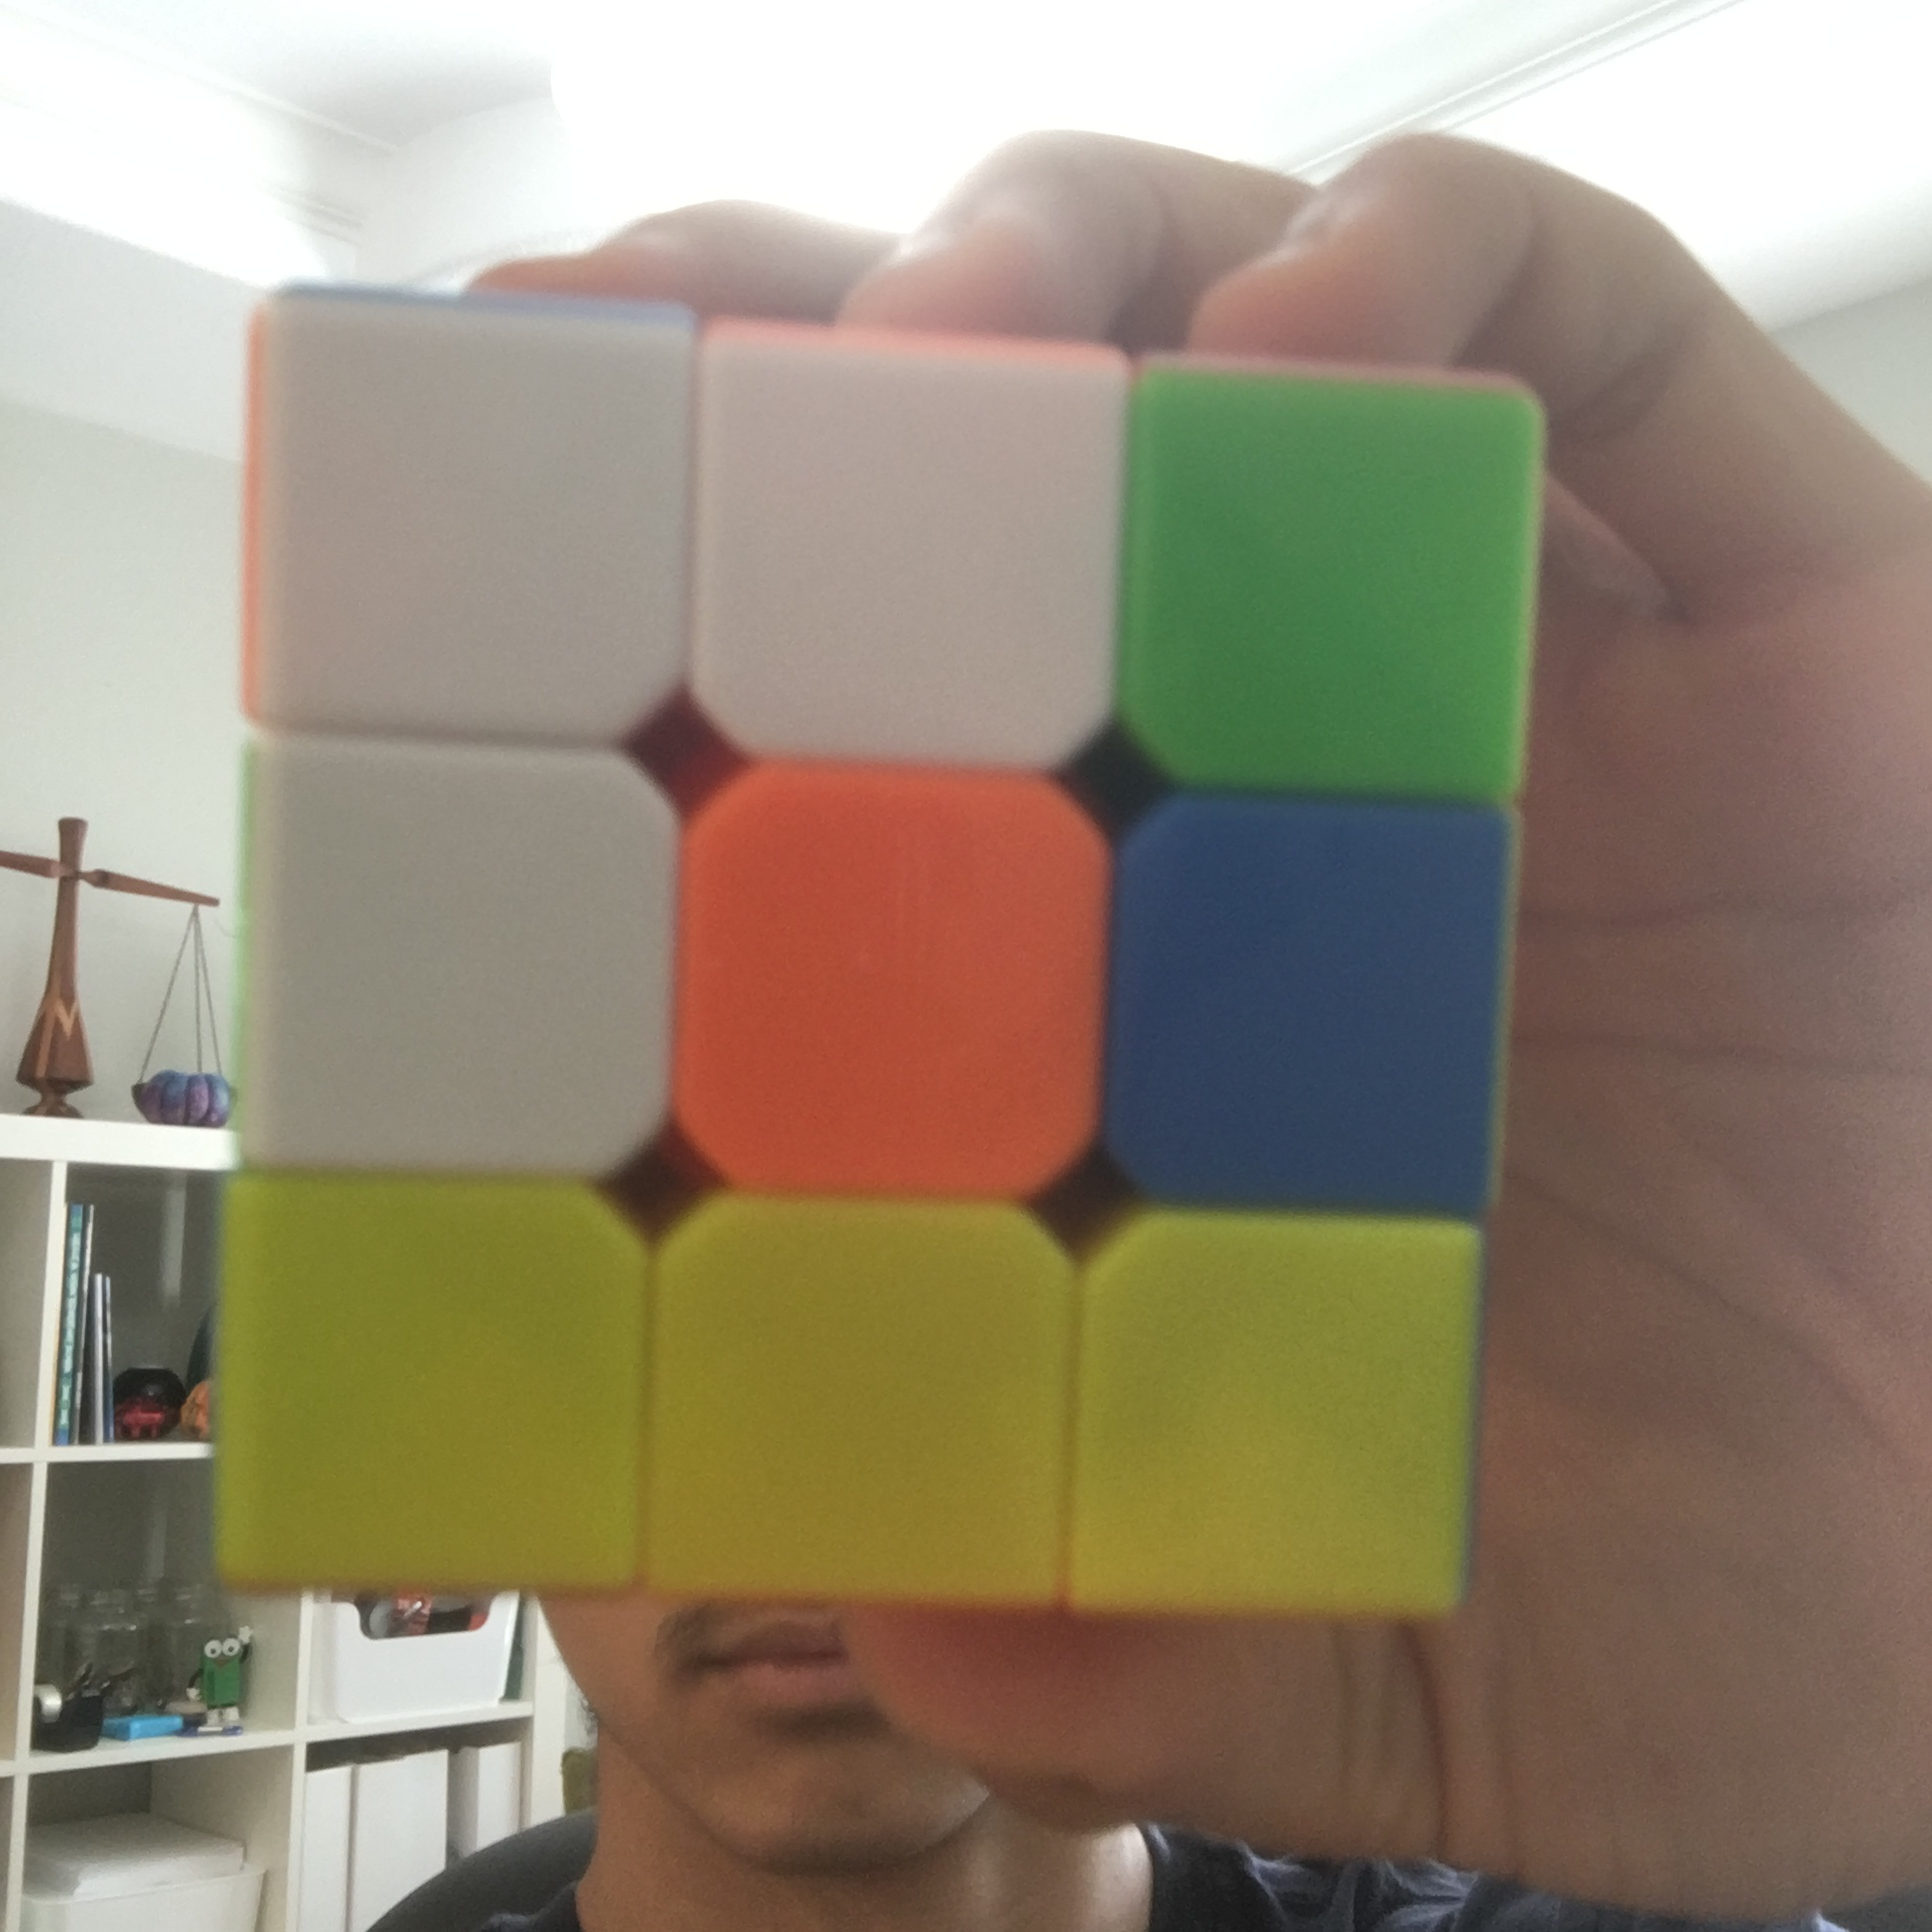face: (233, 296, 1548, 1616)
